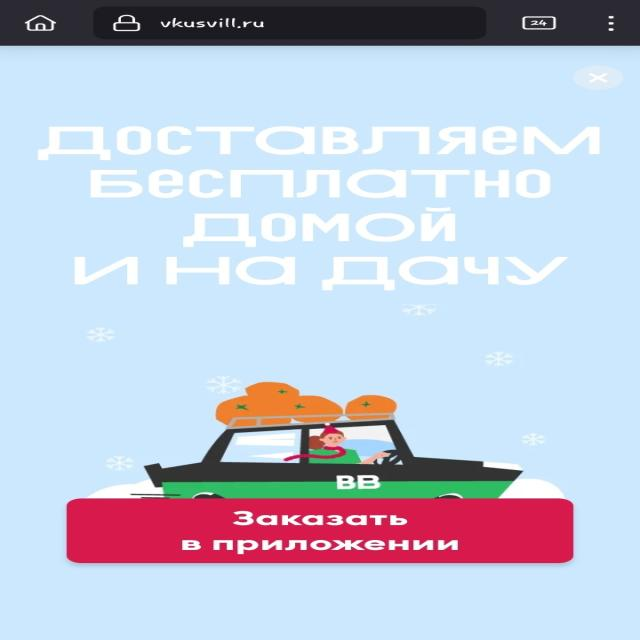button: (64, 499, 574, 566), (570, 63, 626, 92)
site: (0, 46, 640, 640)
